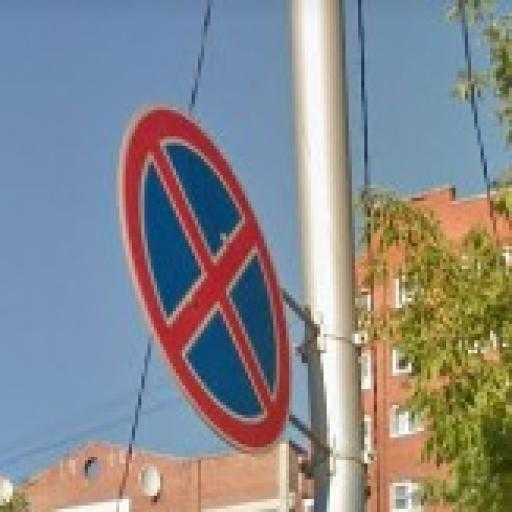traffic_sign: (121, 105, 297, 455)
